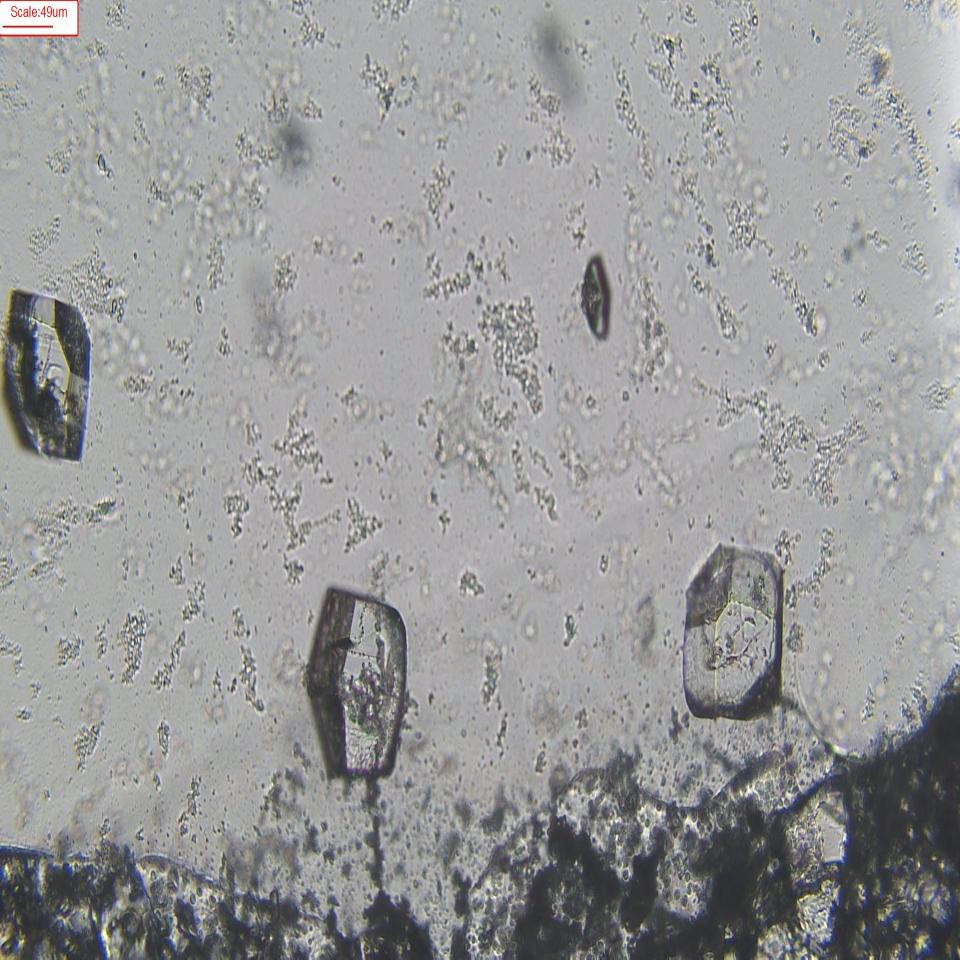crystal: (674, 543, 786, 720), (308, 583, 405, 781), (1, 285, 94, 468), (574, 238, 622, 363)
